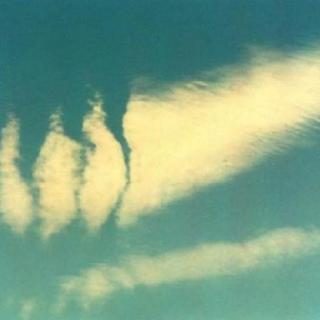Cirrocumulus: (0, 36, 320, 320)
